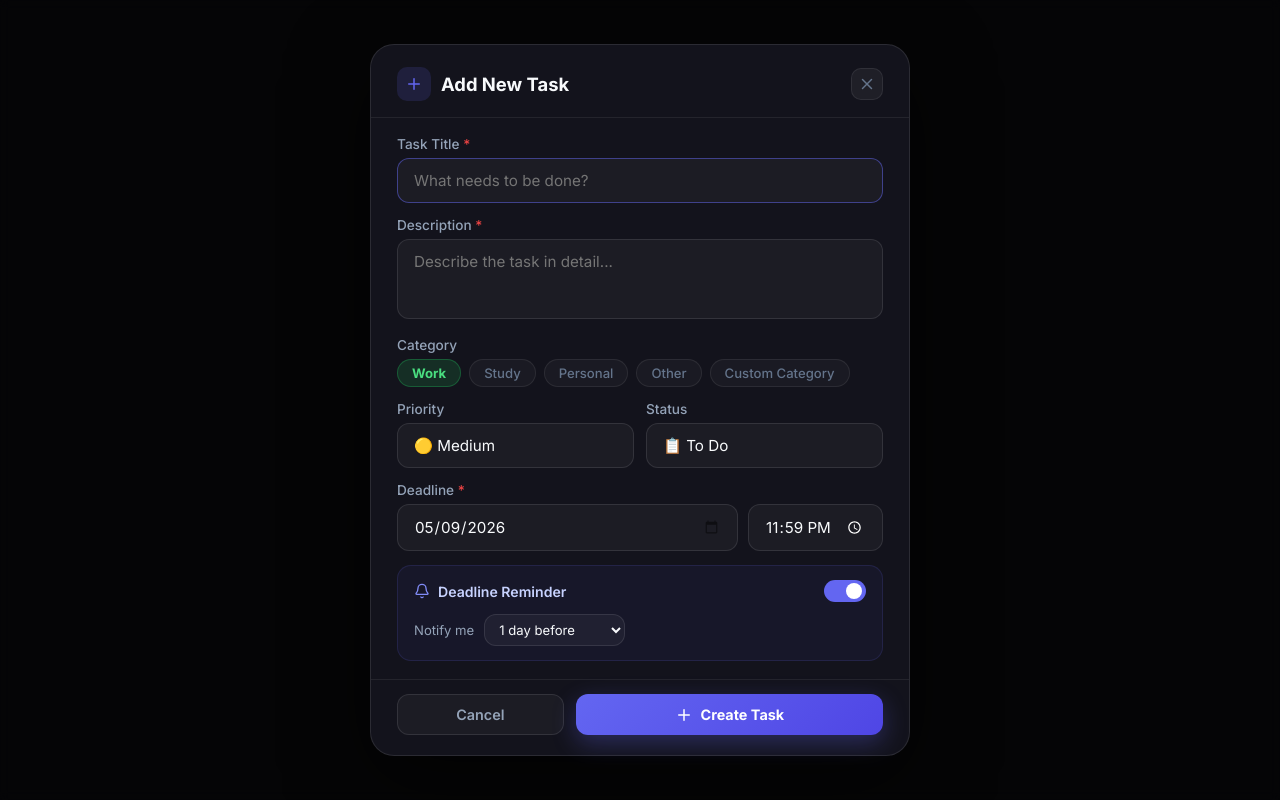
AddTaskModal › clears title error as soon as user types
Step 1. Click the button "Create Task" → (729, 715), box top-left (576, 694), bottom-right (883, 736)
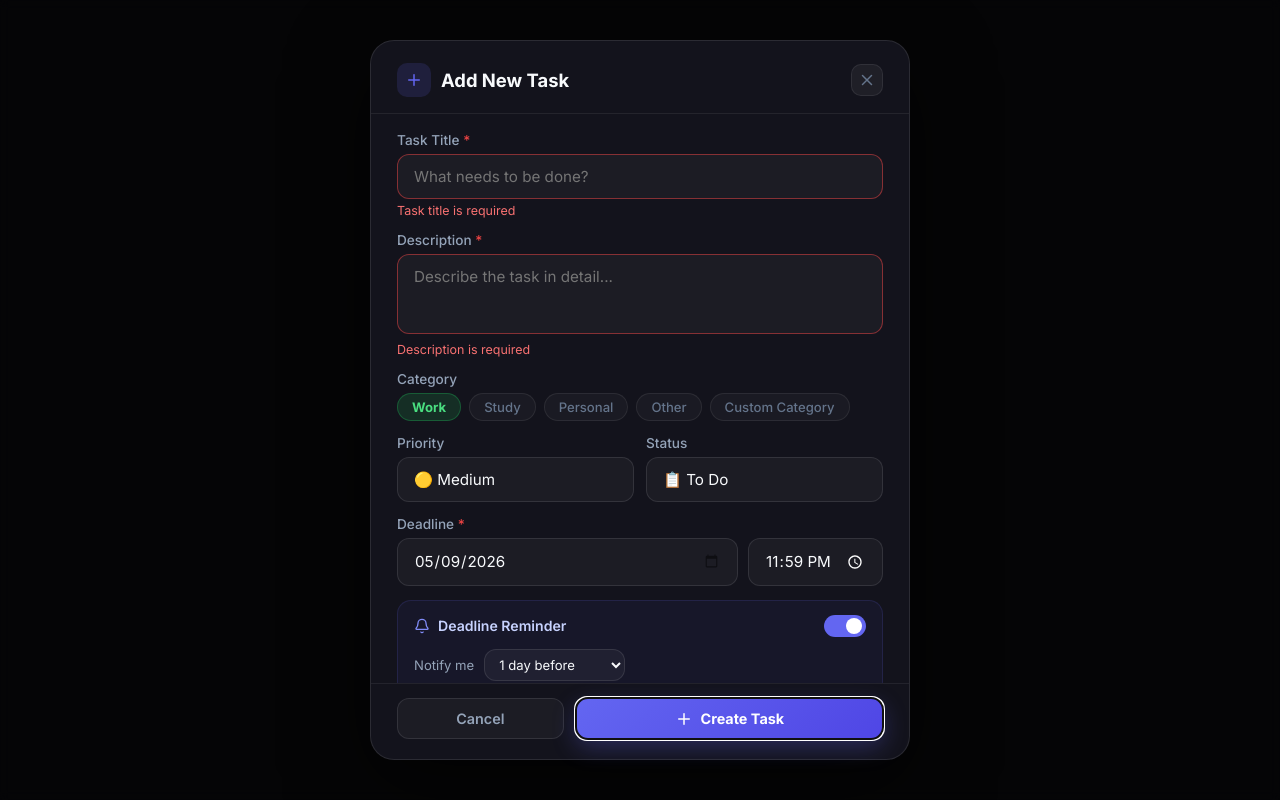
Result: the text "Task title is required" is shown at top-left (397, 203), bottom-right (515, 218)
Step 2. Type "T" into the field with placeholder "What needs to be done?" → (640, 176), box top-left (397, 154), bottom-right (883, 199)
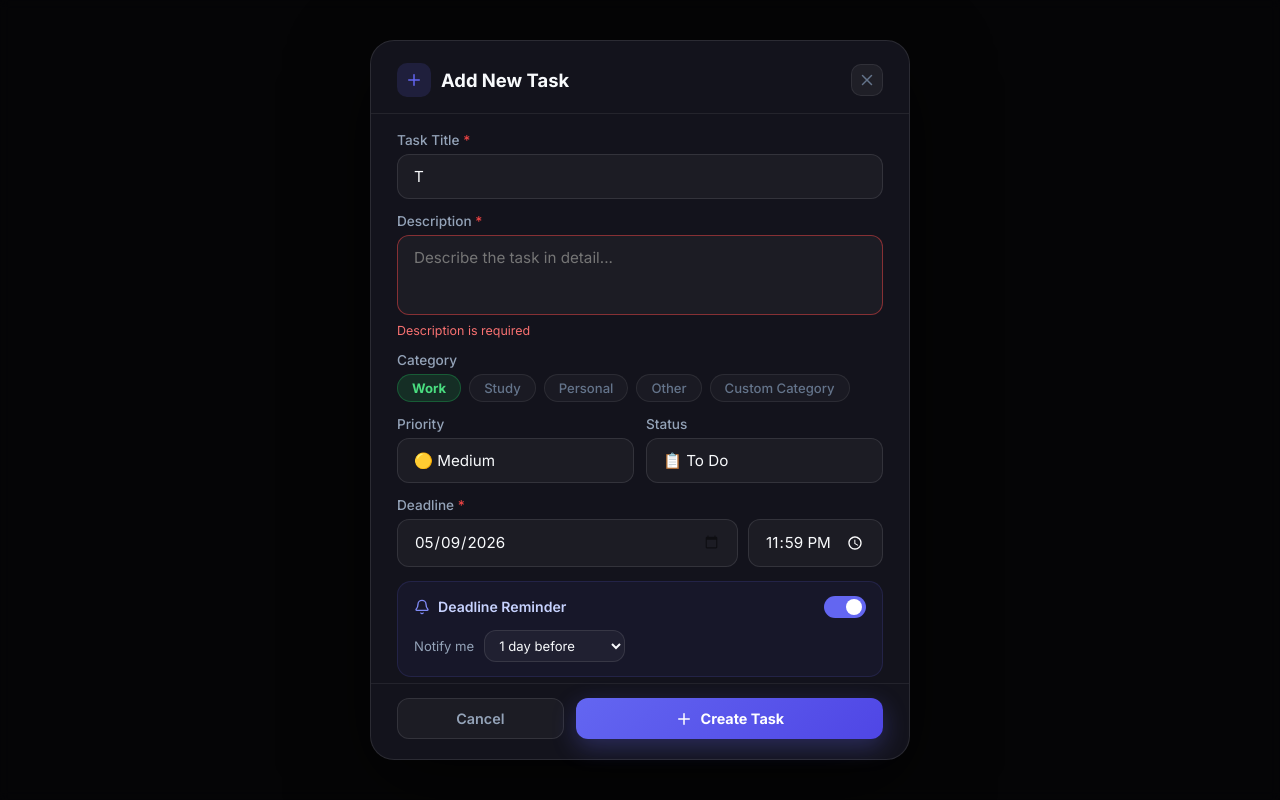
Result: the text "Task title is required" is gone
